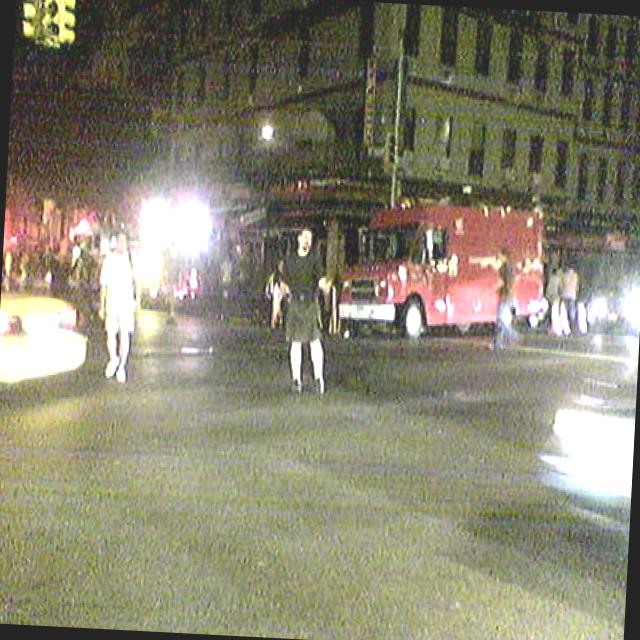Vehicle: (336, 200, 553, 350), (530, 376, 637, 601), (0, 250, 91, 392), (622, 279, 640, 335)
